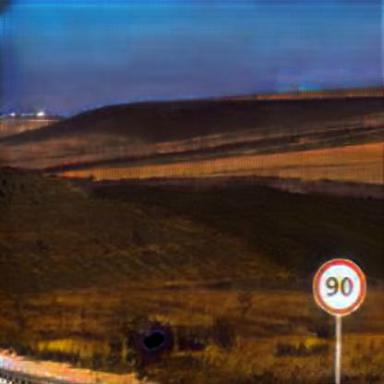Speed_limit_90: (312, 257, 368, 318)
